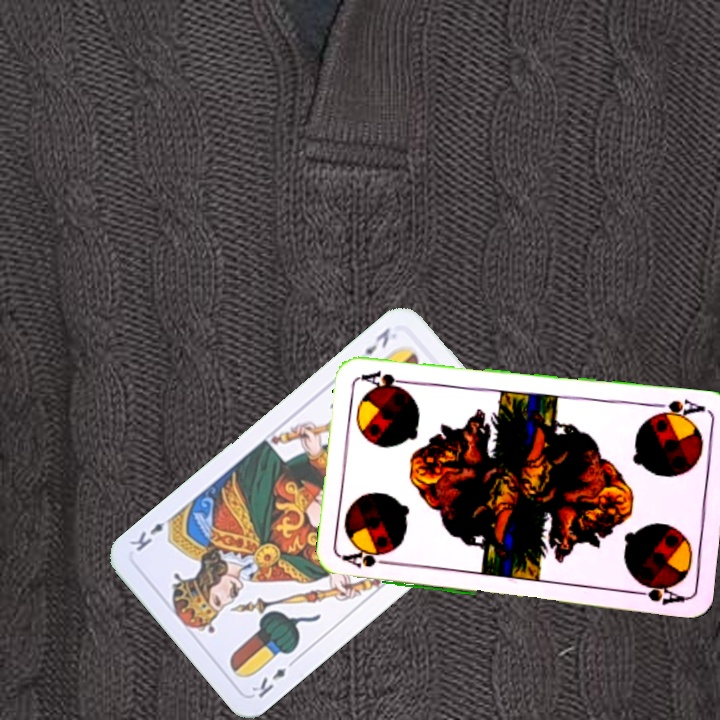EK: (247, 654, 299, 701), (360, 323, 393, 358)
SA: (647, 395, 707, 423), (340, 548, 399, 571)
